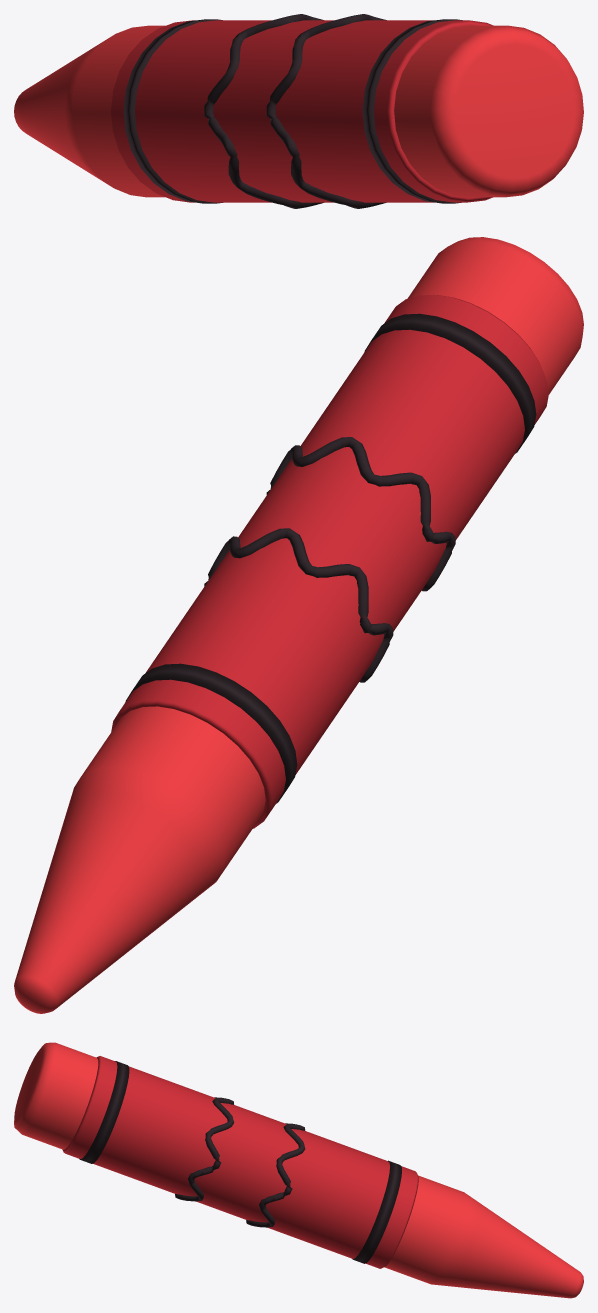
File: TraceRaceCrayon.obj
3 renders of one model, top to bottom at view 1: azimuth 30°, elevation 25°; view 2: azimuth 150°, elevation 25°; view 3: azimuth 270°, elevation 25°, orthographic. The views are drawn at different scales.
Parts seen in each view (by area): view 1: Wrapper, Wax, Bands; view 2: Wrapper, Wax, Bands; view 3: Wrapper, Wax, Bands.
Boxes of the visible parts, x1=… form: Wrapper: x1=111, y1=20, x2=493, y2=202; Wax: x1=14, y1=25, x2=583, y2=197; Bands: x1=123, y1=14, x2=462, y2=208; Wrapper: x1=111, y1=294, x2=548, y2=828; Wax: x1=14, y1=237, x2=583, y2=1013; Bands: x1=125, y1=313, x2=536, y2=803; Wrapper: x1=62, y1=1056, x2=418, y2=1268; Wax: x1=14, y1=1042, x2=583, y2=1298; Bands: x1=79, y1=1061, x2=401, y2=1263.
Bounding box in the file's own units: 2.62 × 6.46 × 13.37.
